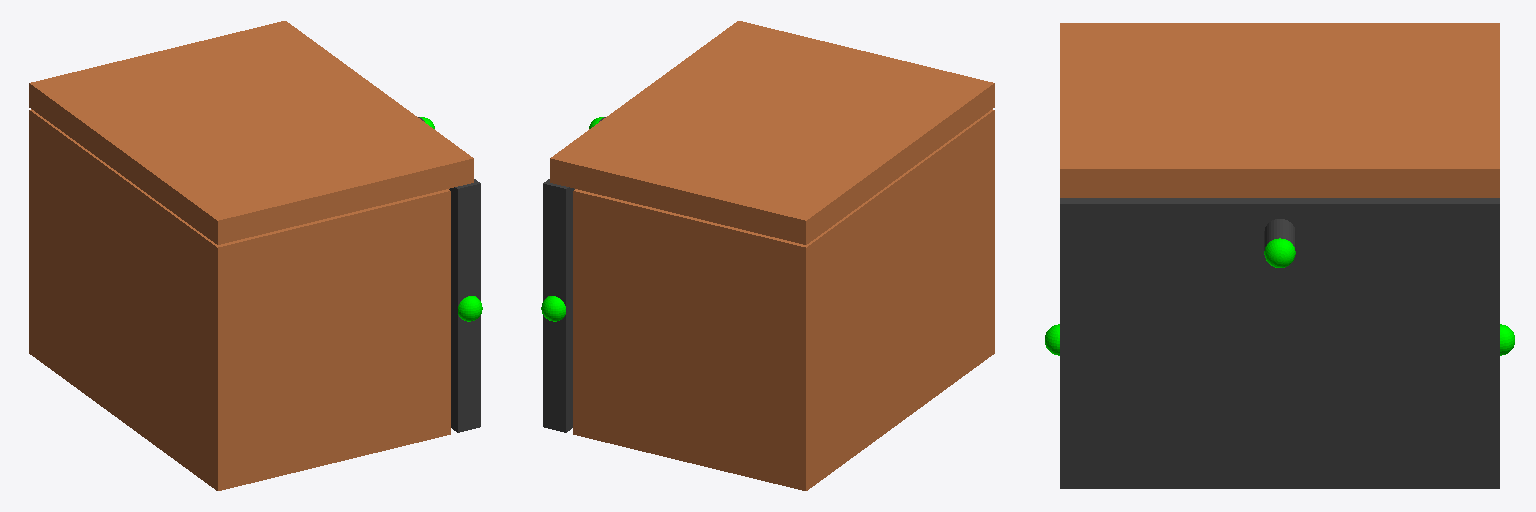
URDF robot description (chest):
<?xml version="1.0" ?>

<robot name="chest">
    <material name="Body">
        <color rgba="0.8 0.5 0.3 1.0"/>
    </material>
    <material name="Door">
        <color rgba="0.3 0.3 0.3 1.0"/>
    </material>
    <material name="KeyPoint">
        <color rgba="0 1 0 0.3"/>
    </material>

    <link name="chest_back_wall">
        <inertial>
            <origin rpy="0 0 0" xyz="0 0 0"/>
            <mass value="0"/>
            <inertia ixx="0.1" ixy="0" ixz="0" iyy="0.1" iyz="0" izz="0.1"/>
        </inertial>
        <visual>
            <origin rpy="0 0 0" xyz="0 0 0"/>
            <geometry>
                <box size="0.01 0.14 0.10"/>
            </geometry>
            <material name="Body"/>
        </visual>
        <collision>
            <origin rpy="0 0 0" xyz="0 0 0"/>
            <geometry>
                <box size="0.01 0.14 0.10"/>
            </geometry>
        </collision>
    </link>

    <joint name="chest_back_up_wall_joint" type="fixed">
        <origin rpy="0 0 0" xyz="0.05 0.0 0.056"/>
        <parent link="chest_back_wall"/>
        <child link="chest_up_wall"/>
    </joint>
    <link name="chest_up_wall">
        <inertial>
            <origin rpy="0 0 0" xyz="0 0 0"/>
            <mass value="2"/>
            <inertia ixx="0.1" ixy="0" ixz="0" iyy="0.1" iyz="0" izz="0.1"/>
        </inertial>
        <visual>
            <origin rpy="0 0 0" xyz="0 0 0"/>
            <geometry>
                <box size="0.11 0.14 0.01"/>
            </geometry>
            <material name="Body"/>
        </visual>
        <collision>
            <origin rpy="0 0 0" xyz="0 0 0"/>
            <geometry>
                <box size="0.11 0.14 0.01"/>
            </geometry>
        </collision>
    </link>

    <joint name="chest_back_left_wall_joint" type="fixed">
        <origin rpy="0 0 0" xyz="0.05 0.065 0"/>
        <parent link="chest_back_wall"/>
        <child link="chest_left_wall"/>
    </joint>
    <link name="chest_left_wall">
        <inertial>
            <origin rpy="0 0 0" xyz="0 0 0"/>
            <mass value="0"/>
            <inertia ixx="0.1" ixy="0" ixz="0" iyy="0.1" iyz="0" izz="0.1"/>
        </inertial>
        <visual>
            <origin rpy="0 0 0" xyz="0 0 0"/>
            <geometry>
                <box size="0.09 0.01 0.10"/>
            </geometry>
            <material name="Body"/>
        </visual>
        <collision>
            <origin rpy="0 0 0" xyz="0 0 0"/>
            <geometry>
                <box size="0.09 0.01 0.10"/>
            </geometry>
        </collision>
    </link>

    <joint name="chest_back_right_wall_joint" type="fixed">
        <origin rpy="0 0 0" xyz="0.05 -0.065 0.0"/>
        <parent link="chest_back_wall"/>
        <child link="chest_right_wall"/>
    </joint>
    <link name="chest_right_wall">
        <inertial>
            <origin rpy="0 0 0" xyz="0 0 0"/>
            <mass value="0"/>
            <inertia ixx="0.1" ixy="0" ixz="0" iyy="0.1" iyz="0" izz="0.1"/>
        </inertial>
        <visual>
            <origin rpy="0 0 0" xyz="0 0 0"/>
            <geometry>
                <box size="0.09 0.01 0.10"/>
            </geometry>
            <material name="Body"/>
        </visual>
        <collision>
            <origin rpy="0 0 0" xyz="0 0 0"/>
            <geometry>
                <box size="0.09 0.01 0.10"/>
            </geometry>
        </collision>
    </link>

    <joint name="chest_back_wall_door_joint" type="prismatic">
        <origin rpy="0 0 0" xyz="0.103 0.0 0.0"/>
        <parent link="chest_back_wall"/>
        <child link="chest_door"/>
        <axis xyz="0 1 0"/>
        <limit effort="200" lower="0" upper="0.12" velocity="1"/>
    </joint>
    <link name="chest_door">
        <inertial>
            <origin rpy="0 0 0" xyz="0 0 0"/>
            <mass value="0"/>
            <inertia ixx="0.1" ixy="0" ixz="0" iyy="0.1" iyz="0" izz="0.1"/>
        </inertial>
        <visual>
            <origin rpy="0 0 0" xyz="0 0 0"/>
            <geometry>
                <box size="0.01 0.14 0.10"/>
            </geometry>
            <material name="Door"/>
        </visual>
        <collision>
            <origin rpy="0 0 0" xyz="0 0 0"/>
            <geometry>
                <box size="0.01 0.14 0.10"/>
            </geometry>
        </collision>
    </link>

    <joint name="chest_door_left_keypoint_joint" type="fixed">
        <origin rpy="0 0 0" xyz="0.0 -0.07 0.0"/>
        <parent link="chest_door"/>
        <child link="chest_door_left_keypoint"/>
    </joint>
    <link name="chest_door_left_keypoint">
        <inertial>
            <origin rpy="0 0 0" xyz="0 0 0"/>
            <mass value="0.0"/>
            <inertia ixx="0.1" ixy="0" ixz="0" iyy="0.1" iyz="0" izz="0.1"/>
        </inertial>
        <visual>
            <origin rpy="0 0 0" xyz="0 0 0"/>
            <geometry>
                <sphere radius="0.005"/>
            </geometry>
            <material name="KeyPoint"/>
        </visual>
    </link>
    <joint name="chest_door_right_keypoint_joint" type="fixed">
        <origin rpy="0 0 0" xyz="0.0 0.07 0.0"/>
        <parent link="chest_door"/>
        <child link="chest_door_right_keypoint"/>
    </joint>
    <link name="chest_door_right_keypoint">
        <inertial>
            <origin rpy="0 0 0" xyz="0 0 0"/>
            <mass value="0.0"/>
            <inertia ixx="0.1" ixy="0" ixz="0" iyy="0.1" iyz="0" izz="0.1"/>
        </inertial>
        <visual>
            <origin rpy="0 0 0" xyz="0 0 0"/>
            <geometry>
                <sphere radius="0.005"/>
            </geometry>
            <material name="KeyPoint"/>
        </visual>
    </link>

    <joint name="chest_door_handle_joint" type="fixed">
        <origin rpy="0 1.57 0" xyz="0.01 0.0 0.04"/>
        <parent link="chest_door"/>
        <child link="chest_door_handle"/>
    </joint>
    <link name="chest_door_handle">
        <contact>
            <lateral_friction value="1.0"/>
            <rolling_friction value="0.0"/>
            <inertia_scaling value="3.0"/>
            <contact_cfm value="0.0"/>
            <contact_erp value="1.0"/>
        </contact>
        <inertial>
            <origin rpy="0 0 0" xyz="0 0 0"/>
            <mass value="2"/>
            <inertia ixx="0.1" ixy="0" ixz="0" iyy="0.1" iyz="0" izz="0.1"/>
        </inertial>
        <visual>
            <origin rpy="0 0 0" xyz="0 0 0"/>
            <geometry>
                <cylinder radius="0.005" length="0.02"/>
            </geometry>
            <material name="Door"/>
        </visual>
        <collision>
            <origin rpy="0 0 0" xyz="0 0 0"/>
            <geometry>
                <cylinder radius="0.005" length="0.02"/>
            </geometry>
        </collision>
    </link>

    <joint name="chest_door_handle_keypoint_joint" type="fixed">
        <origin rpy="0 0 0" xyz="0.0 0.0 0.01"/>
        <parent link="chest_door_handle"/>
        <child link="chest_door_handle_keypoint"/>
    </joint>
    <link name="chest_door_handle_keypoint">
        <inertial>
            <origin rpy="0 0 0" xyz="0 0 0"/>
            <mass value="0.0"/>
            <inertia ixx="0.1" ixy="0" ixz="0" iyy="0.1" iyz="0" izz="0.1"/>
        </inertial>
        <visual>
            <origin rpy="0 0 0" xyz="0 0 0"/>
            <geometry>
                <sphere radius="0.005"/>
            </geometry>
            <material name="KeyPoint"/>
        </visual>
    </link>
</robot>

--- What the picture shows (computed from the rendered views, not written in the file) ---
The picture shows the robot from 3 angles, left to right: view 1: azimuth 30°, elevation 25°; view 2: azimuth 150°, elevation 25°; view 3: azimuth 270°, elevation 25°; orthographic projection.
Robot: chest — 9 links, 8 joints (1 prismatic, 7 fixed); root link chest_back_wall; default pose: every joint at zero.
Visible links, largest first — view 1: chest_up_wall, chest_back_wall, chest_right_wall, chest_door; view 2: chest_up_wall, chest_back_wall, chest_left_wall, chest_door; view 3: chest_door, chest_up_wall, chest_door_handle_keypoint, chest_door_handle.
Link boxes in pixels (x1=…): chest_up_wall: x1=29, y1=21, x2=473, y2=244; chest_back_wall: x1=29, y1=109, x2=240, y2=490; chest_right_wall: x1=239, y1=189, x2=450, y2=485; chest_door: x1=449, y1=179, x2=480, y2=432; chest_up_wall: x1=550, y1=21, x2=994, y2=244; chest_back_wall: x1=783, y1=109, x2=994, y2=490; chest_left_wall: x1=573, y1=189, x2=784, y2=485; chest_door: x1=543, y1=179, x2=574, y2=432; chest_door: x1=1060, y1=198, x2=1499, y2=488; chest_up_wall: x1=1060, y1=23, x2=1499, y2=197; chest_door_handle_keypoint: x1=1264, y1=238, x2=1295, y2=267; chest_door_handle: x1=1264, y1=219, x2=1295, y2=250.
Size in the robot's own frame: 0.133 by 0.15 by 0.111 metres.
Geometry: primitives only (box / cylinder / sphere), no mesh files.